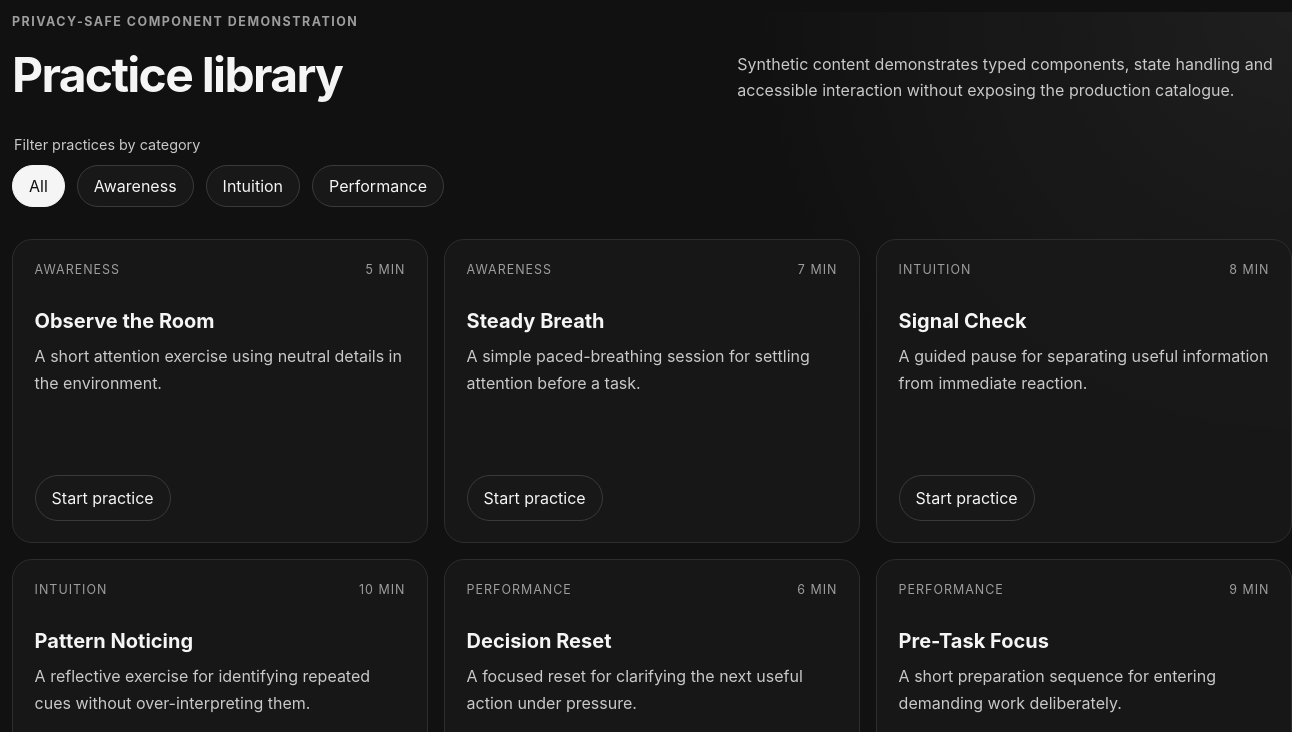
Test: PracticeLibrary › filters visible practices by category
Expected: the heading "Practice library" is shown, [12, 45, 342, 104]
Click the button "Intuition" at {"x": 253, "y": 186}, box [206, 165, 300, 207]
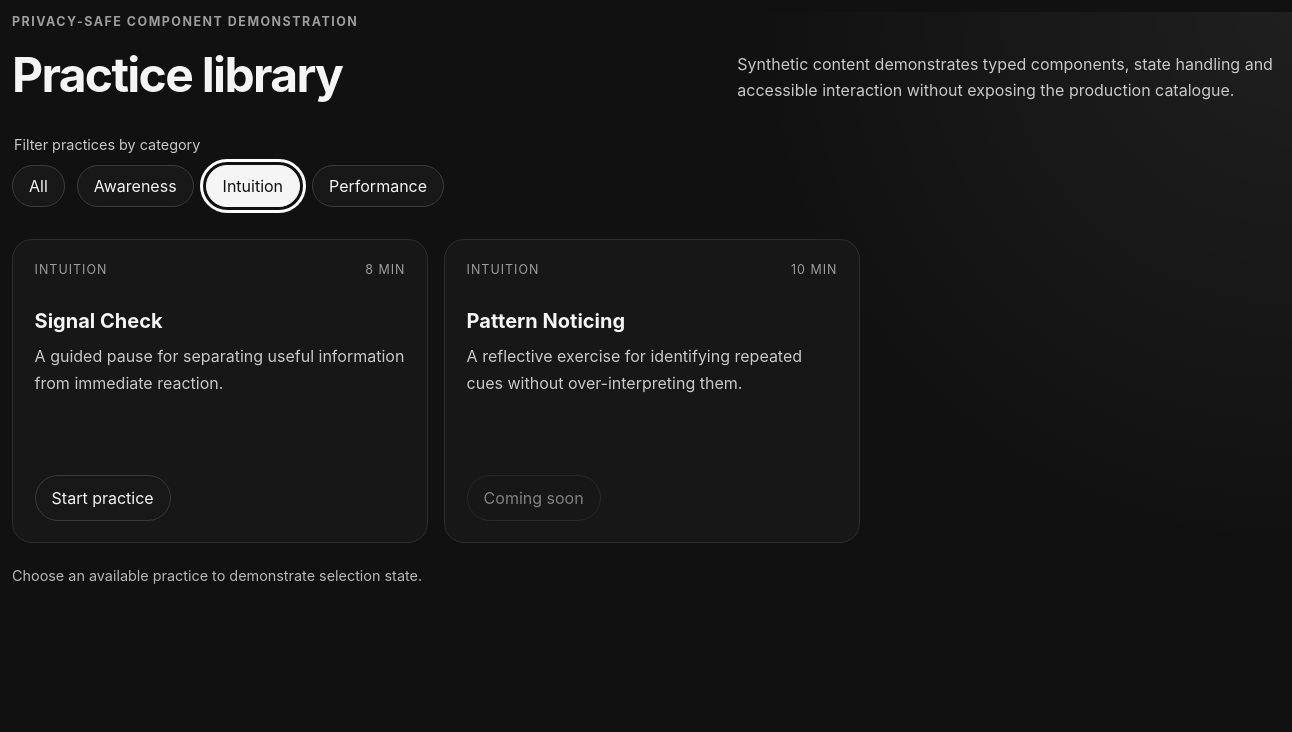
Expected: the heading "Signal Check" is shown, [35, 309, 162, 333]
Expected: the heading "Observe the Room" is gone
